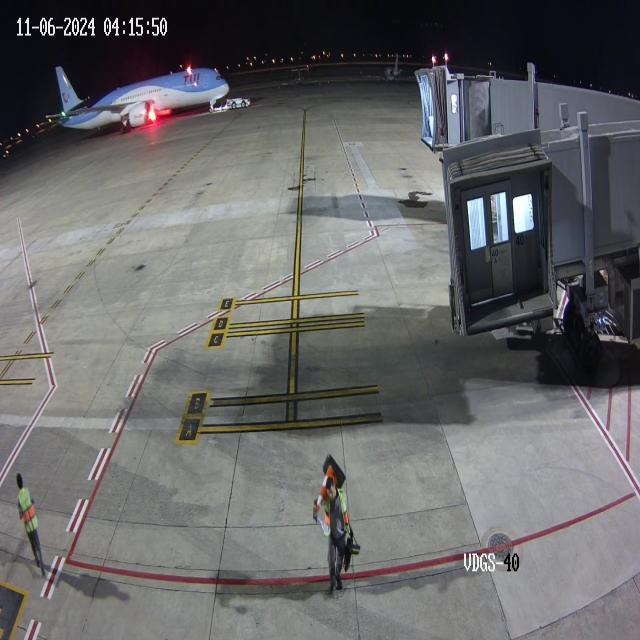bridge: (432, 64, 492, 148)
plane: (36, 1, 257, 144)
window: (215, 72, 226, 82)
